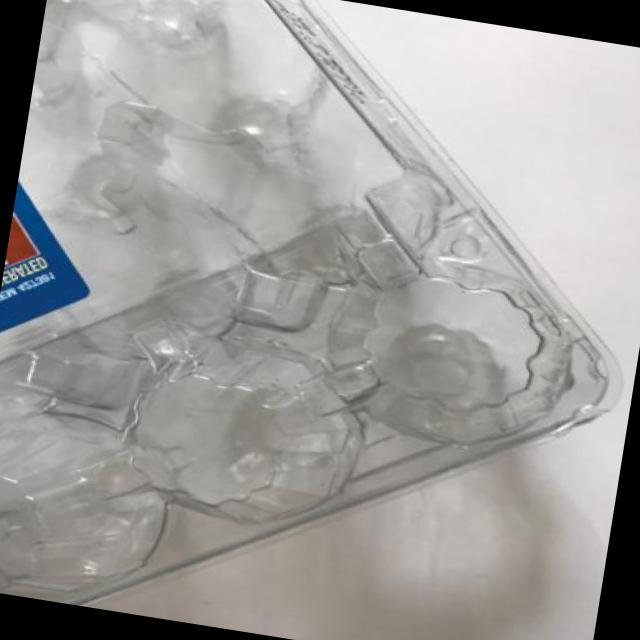Clamshell: (0, 0, 640, 640)
Label: (0, 188, 104, 351)
